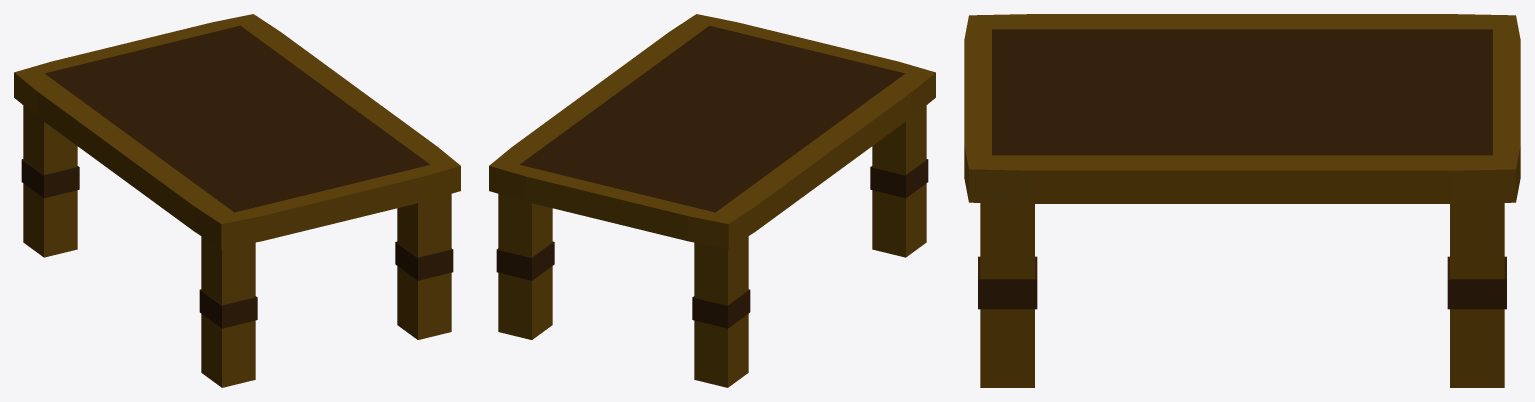
File: lowpoly_table.fbx
3 renders of one model, left to right at view 1: azimuth 30°, elevation 25°; view 2: azimuth 150°, elevation 25°; view 3: azimuth 270°, elevation 25°, orthographic. The views are drawn at different scales.
Parts seen in each view (by area): view 1: table; view 2: table; view 3: table.
Boxes of the visible parts, x1,y1,x2,y2 form: table: (14, 14, 460, 387); table: (489, 14, 935, 387); table: (964, 14, 1520, 387).
Bounding box in the file's own units: 106 × 70 × 159.
